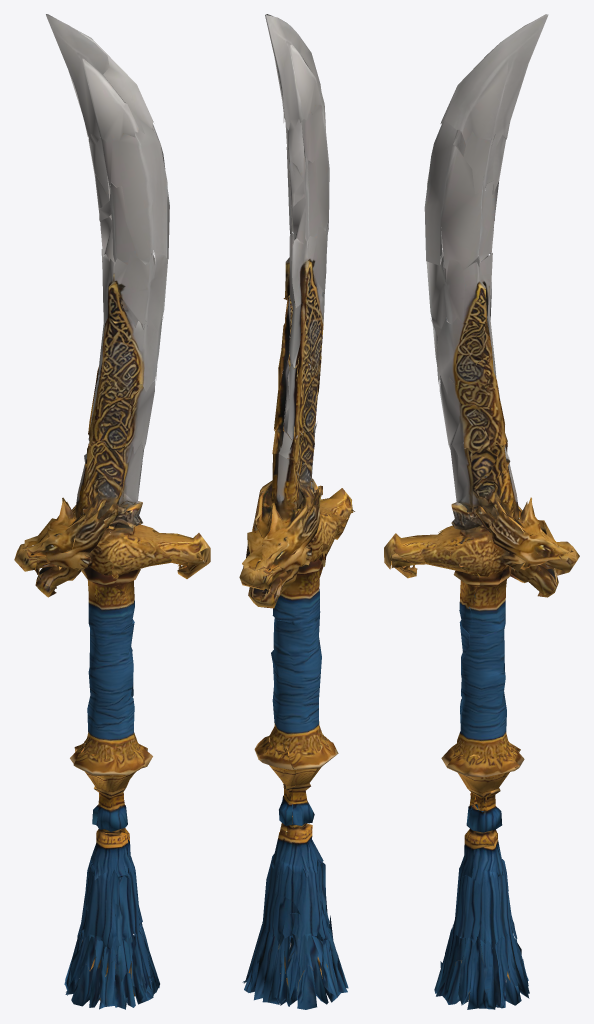
File: Weapon_T9.fbx
3 views of the same model, side by side, from view 1: azimuth 90°, elevation 25°; view 2: azimuth 150°, elevation 25°; view 3: azimuth 270°, elevation 25° (orthographic). The views are drawn at different scales.
Visible parts, largest first — view 1: Vanguard_Weapon; view 2: Vanguard_Weapon; view 3: Vanguard_Weapon.
Part boxes in pixels (x1=…): Vanguard_Weapon: x1=14, y1=14, x2=210, y2=1009; Vanguard_Weapon: x1=239, y1=14, x2=354, y2=1009; Vanguard_Weapon: x1=384, y1=14, x2=579, y2=1009.
Size of the model in its own units: 0.0934 by 1 by 0.1821.
1 material, 1 textured.
